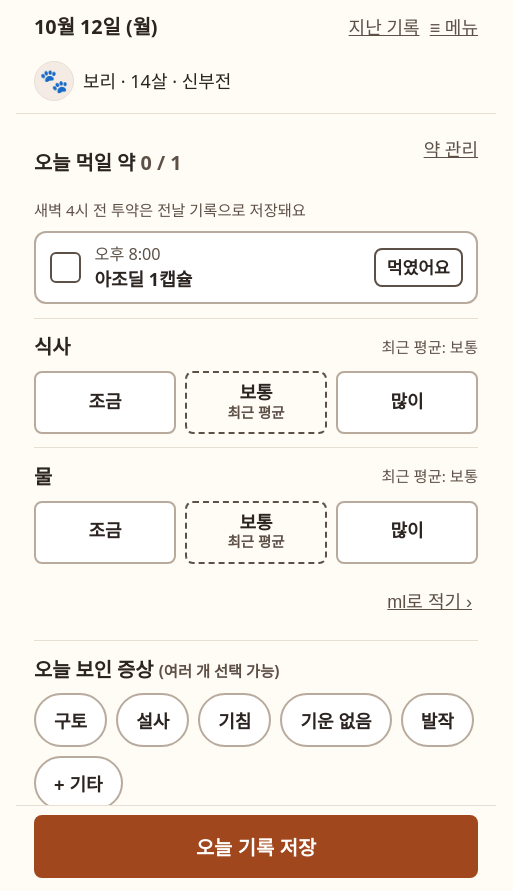
QA: 저장·되돌리기 동시 가드 › 다시 저장하는 중에는 이전 저장의 [저장 되돌리기]가 동작하지 않아야 한다
Click the button "오늘 기록 저장" at (256, 846), box x1=34 y1=814 x2=478 y2=878
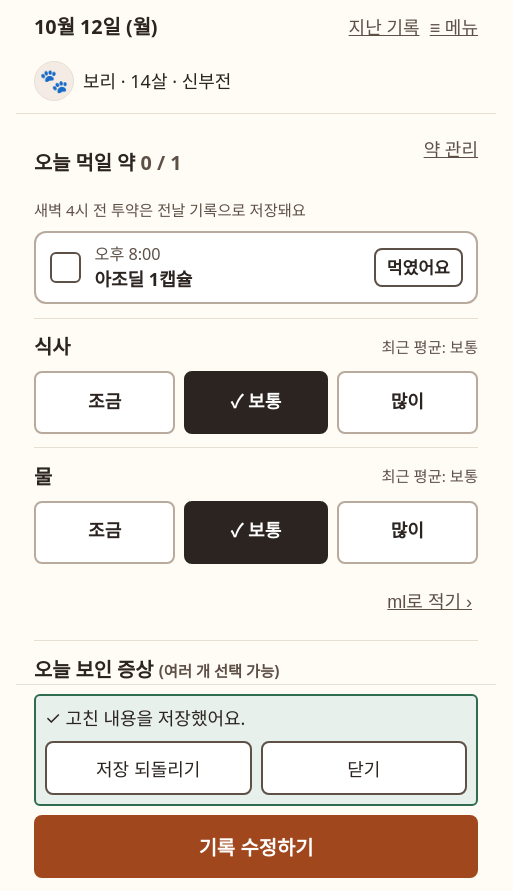
Click the button "기록 수정하기" at (256, 846), box x1=34 y1=814 x2=478 y2=878
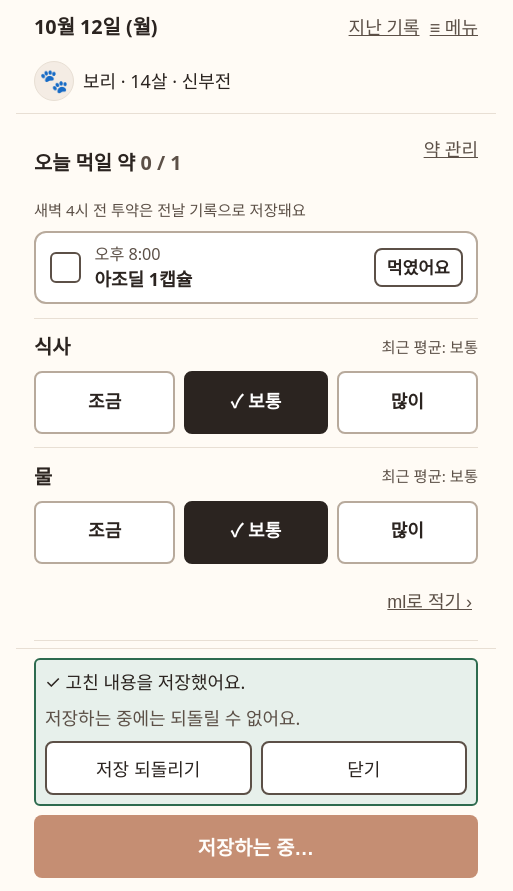
Expected: the text "저장하는 중에는 되돌릴 수 없어요." is shown, x1=45 y1=706 x2=300 y2=730
Click the button "저장 되돌리기" at (148, 768), box x1=45 y1=740 x2=252 y2=794
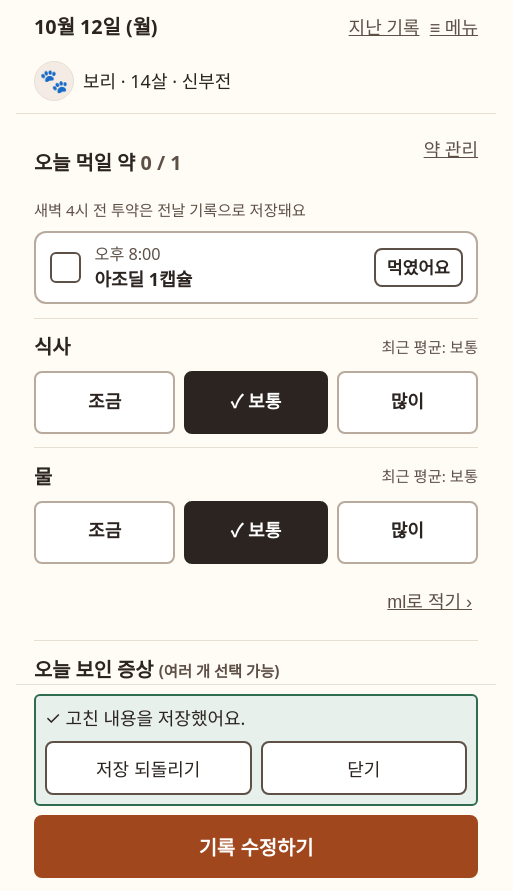
Expected: the button "저장하는 중…" is gone
Expected: the text "저장하는 중에는 되돌릴 수 없어요." is gone
